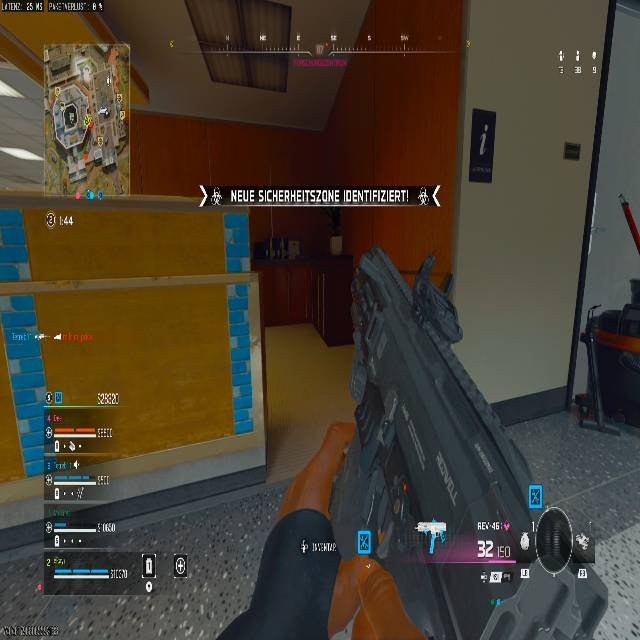head: (531, 507, 573, 564)
player: (479, 507, 610, 640)
